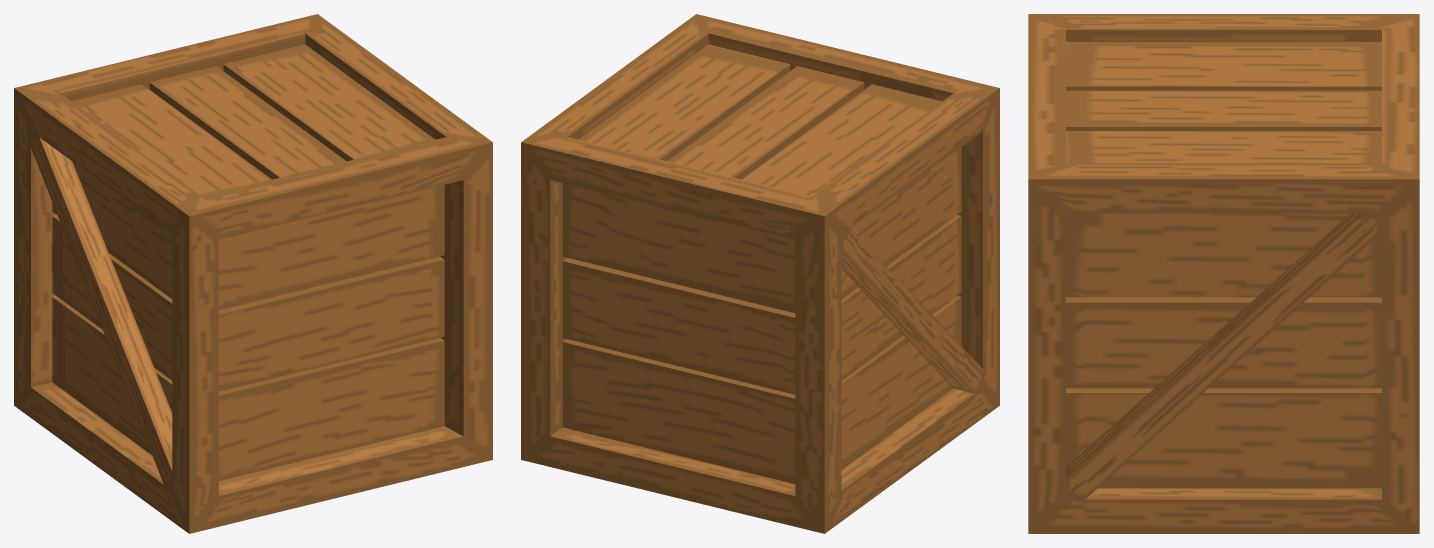
Rendered from caja (1).fbx.
3 views of the same model, side by side, from view 1: azimuth 30°, elevation 25°; view 2: azimuth 150°, elevation 25°; view 3: azimuth 270°, elevation 25° (orthographic). The views are drawn at different scales.
Parts seen in each view (by area): view 1: Cube; view 2: Cube; view 3: Cube.
Boxes of the visible parts, x1,y1,x2,y2 form: Cube: (14, 14, 492, 533); Cube: (521, 14, 999, 533); Cube: (1028, 14, 1419, 533).
Size of the model in its own units: 53.78 by 53.78 by 53.78.
1 material, 1 textured.
